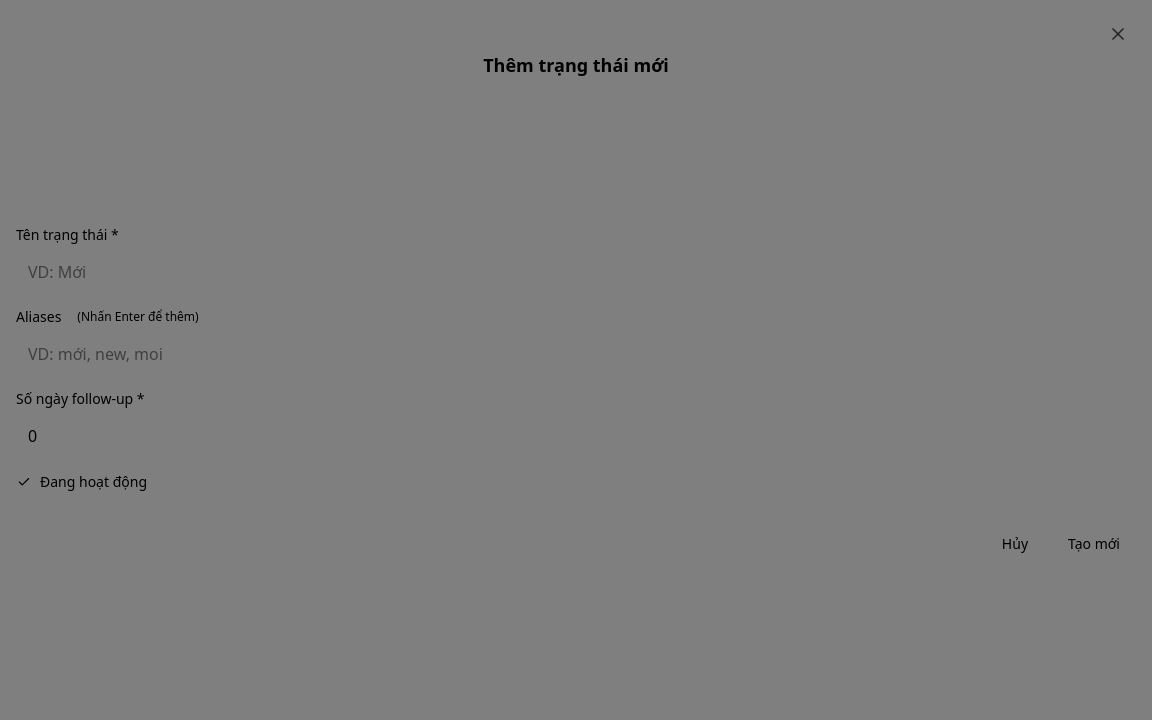
Test: FollowUpStatusFormModal › Alias Management › adds alias on Enter key
Step 1. Type "test-alias" into the field with placeholder "VD: mới, new, moi" → (576, 354), box [16,332,1136,376]
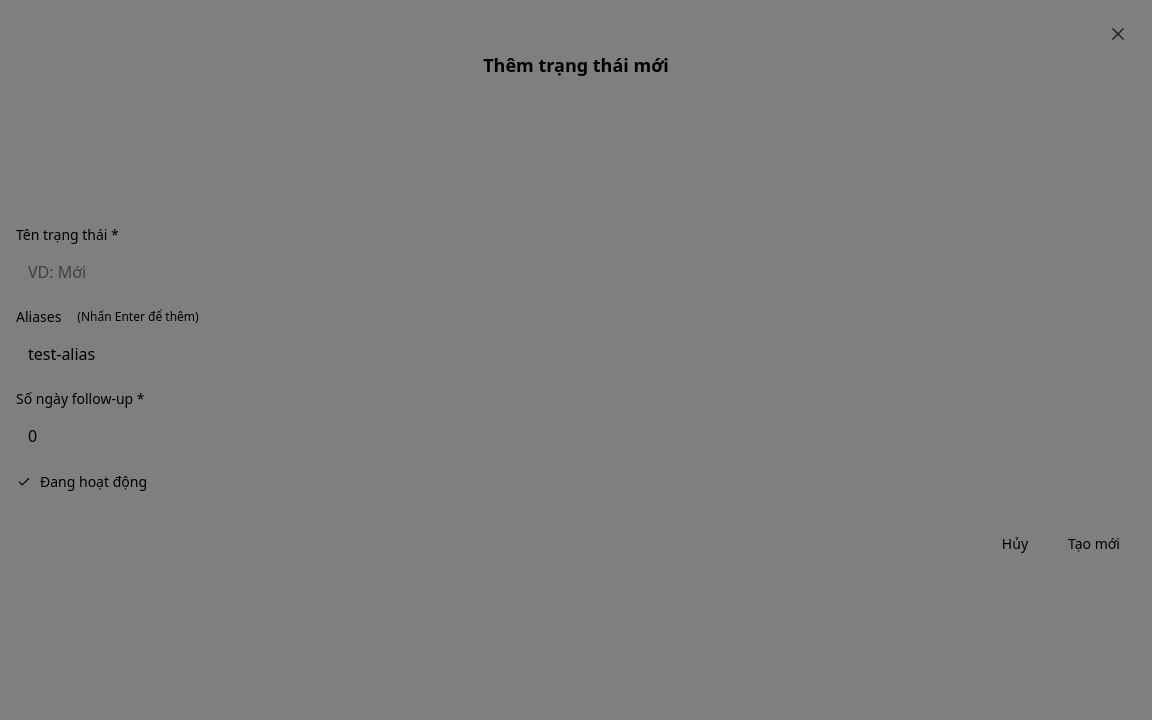
Step 2. Press Enter in the field with placeholder "VD: mới, new, moi", box [16,332,1136,376]
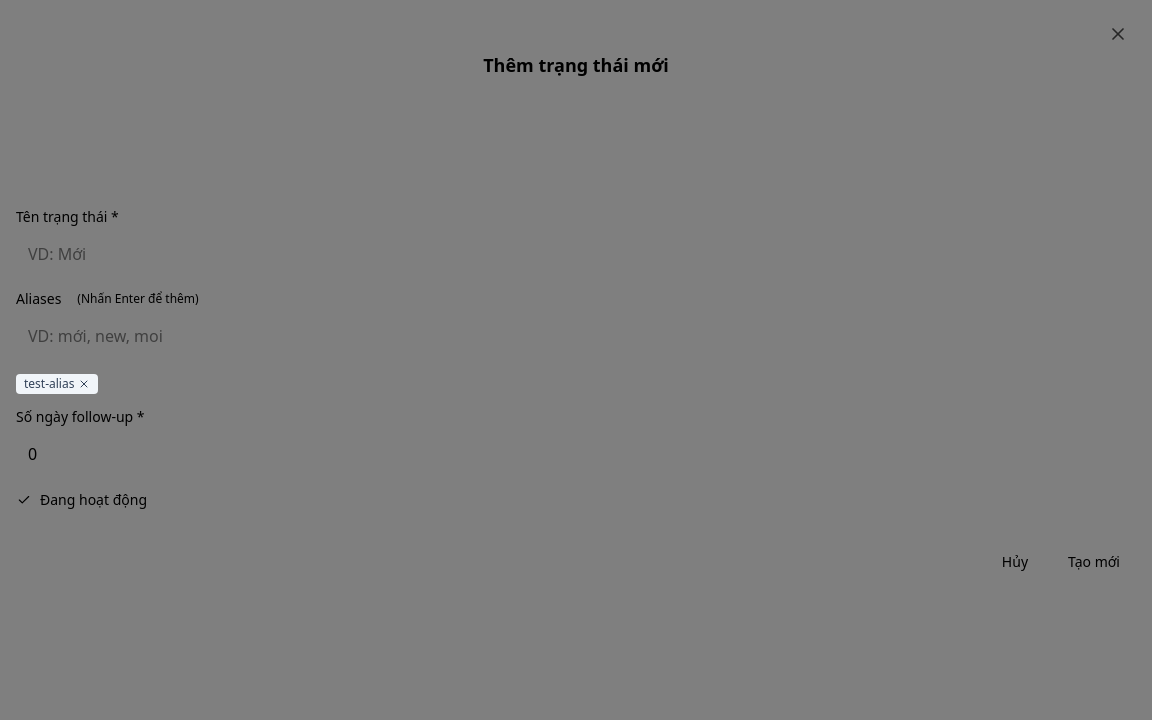
Check: the text "test-alias" is shown, box [16,374,98,394]
